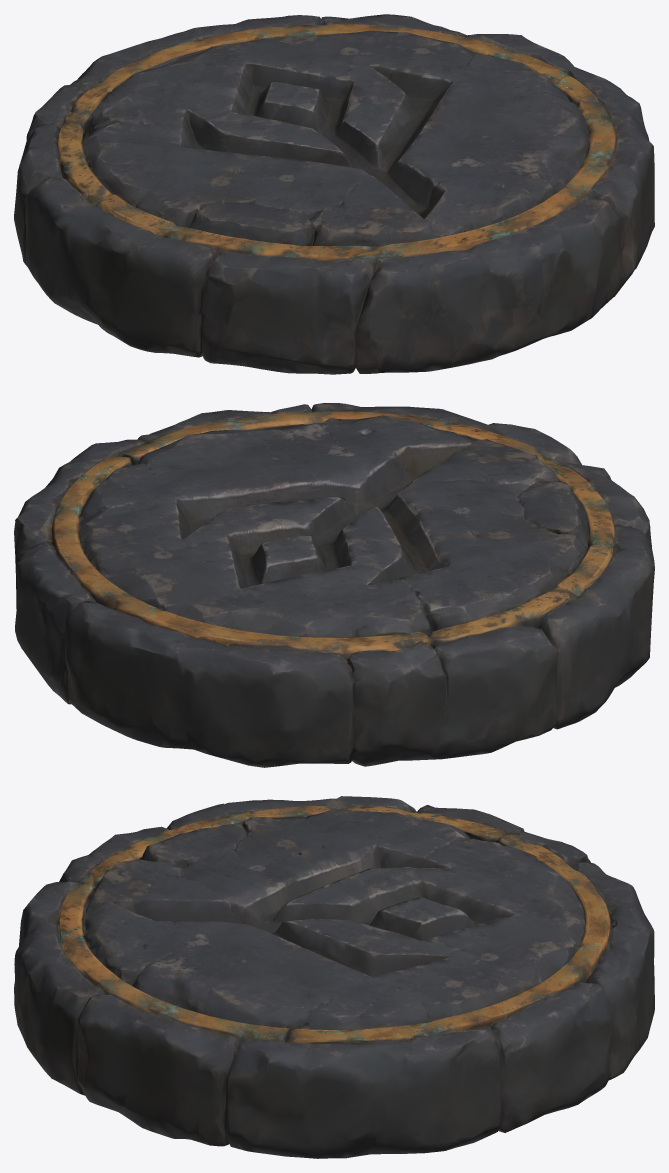
File: hub_floor_rune.glb
3 views of the same model, one above another, from view 1: azimuth 30°, elevation 25°; view 2: azimuth 150°, elevation 25°; view 3: azimuth 270°, elevation 25° (orthographic).
Parts seen in each view (by area): view 1: tripo_node_d893685a-dcbb-4f93-a3af-918c64101b53; view 2: tripo_node_d893685a-dcbb-4f93-a3af-918c64101b53; view 3: tripo_node_d893685a-dcbb-4f93-a3af-918c64101b53.
Boxes of the visible parts, x1,y1,x2,y2 form: tripo_node_d893685a-dcbb-4f93-a3af-918c64101b53: [14, 14, 654, 374]; tripo_node_d893685a-dcbb-4f93-a3af-918c64101b53: [14, 403, 654, 767]; tripo_node_d893685a-dcbb-4f93-a3af-918c64101b53: [14, 796, 654, 1158].
Bounding box in the file's own units: 1 × 0.2281 × 0.9977.
1 material, 1 textured.
